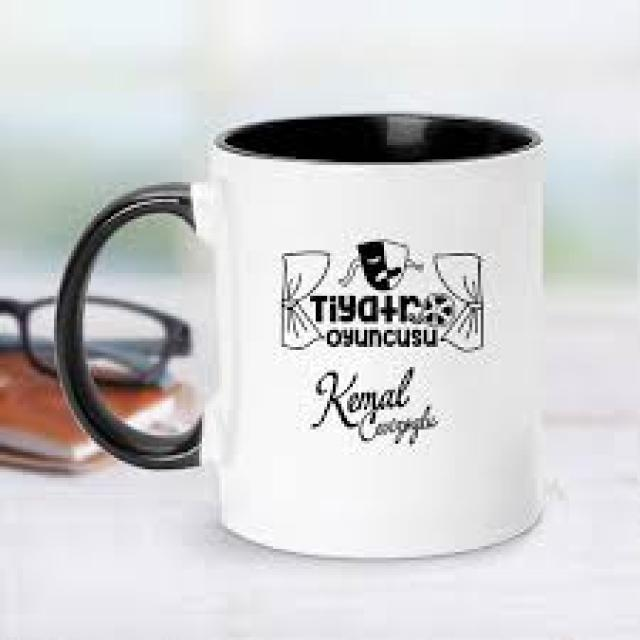taza: (55, 110, 547, 558)
